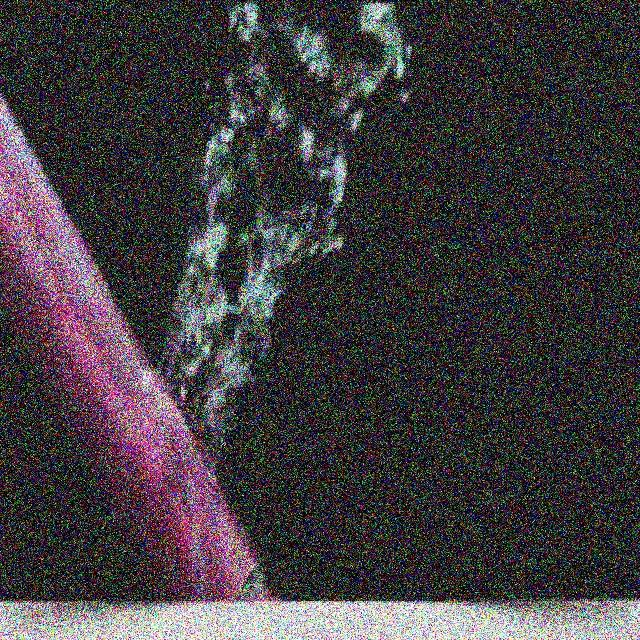Hole: (133, 380, 222, 484)
